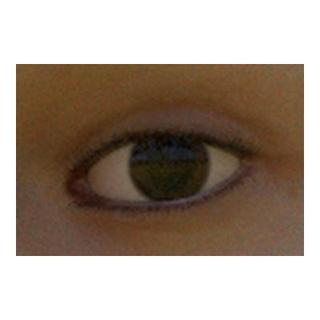pupil: (149, 144, 190, 186)
